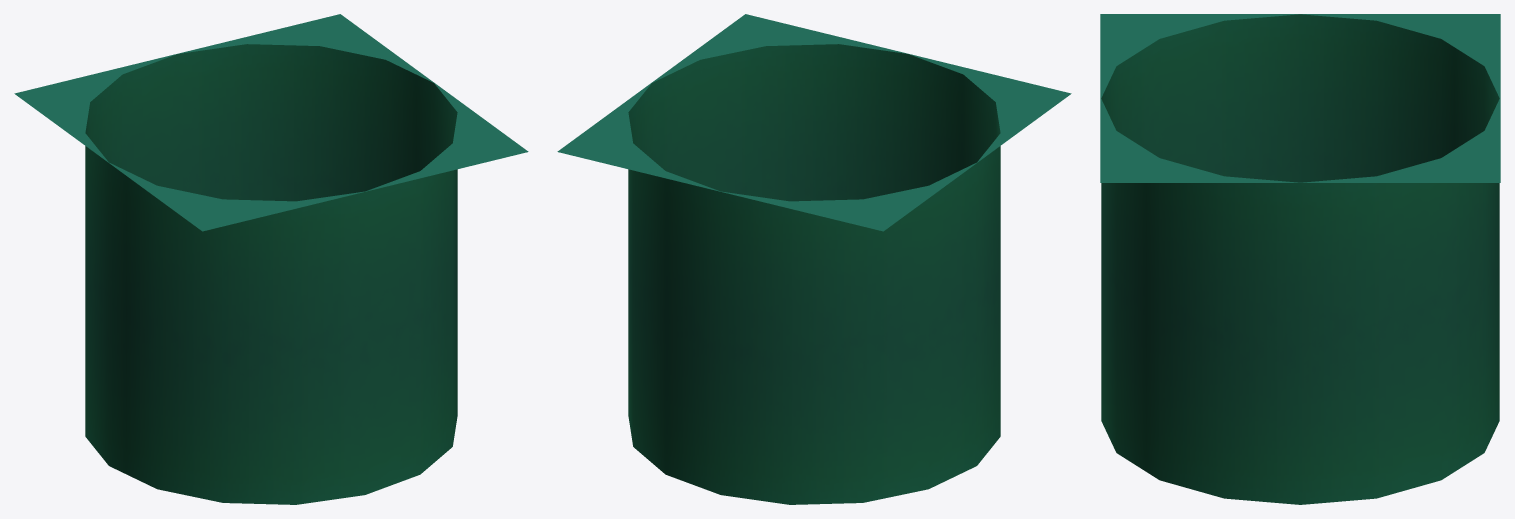
Rendered from hole.fbx.
3 renders of one model, left to right at view 1: azimuth 30°, elevation 25°; view 2: azimuth 150°, elevation 25°; view 3: azimuth 270°, elevation 25°, orthographic. The views are drawn at different scales.
Parts seen in each view (by area): view 1: hole_geo; view 2: hole_geo; view 3: hole_geo.
Boxes of the visible parts, box(x1,y1,x2,y2) form: hole_geo: box(14, 14, 528, 504); hole_geo: box(557, 14, 1071, 504); hole_geo: box(1100, 14, 1500, 504).
Bounding box in the file's own units: 900 × 800 × 900.
